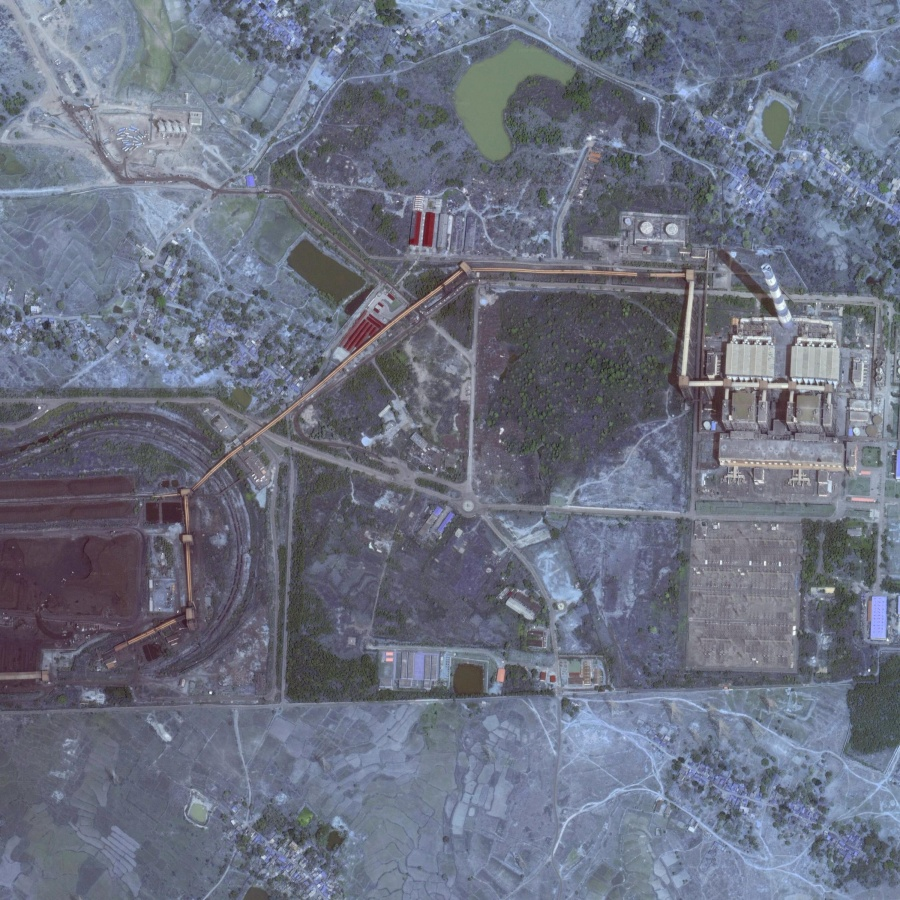PowerPlant: (692, 224, 846, 357)
